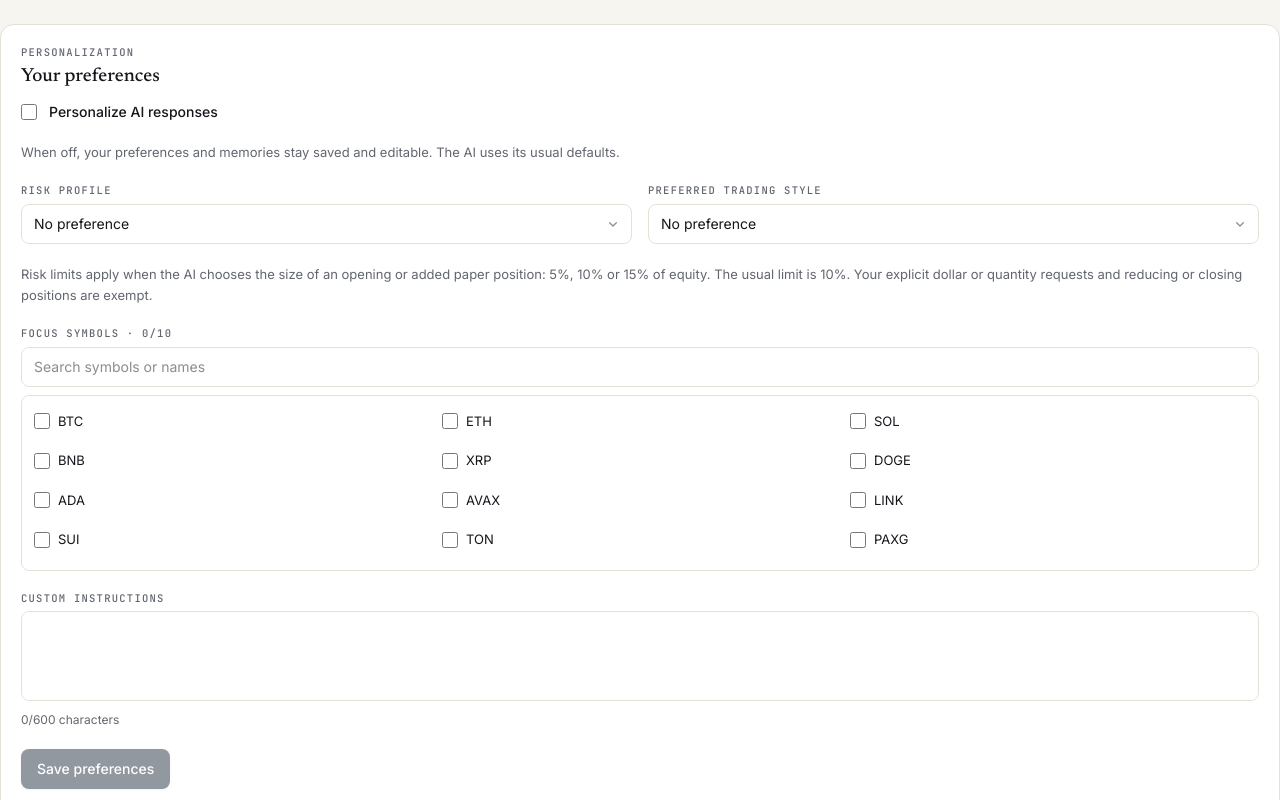
Account personalization › keeps newer unsaved typing when a previous Save completes
Type "First." into the text box labelled "Custom instructions".
click(640, 656); type("First.")  # box left=21, top=611, right=1259, bottom=701
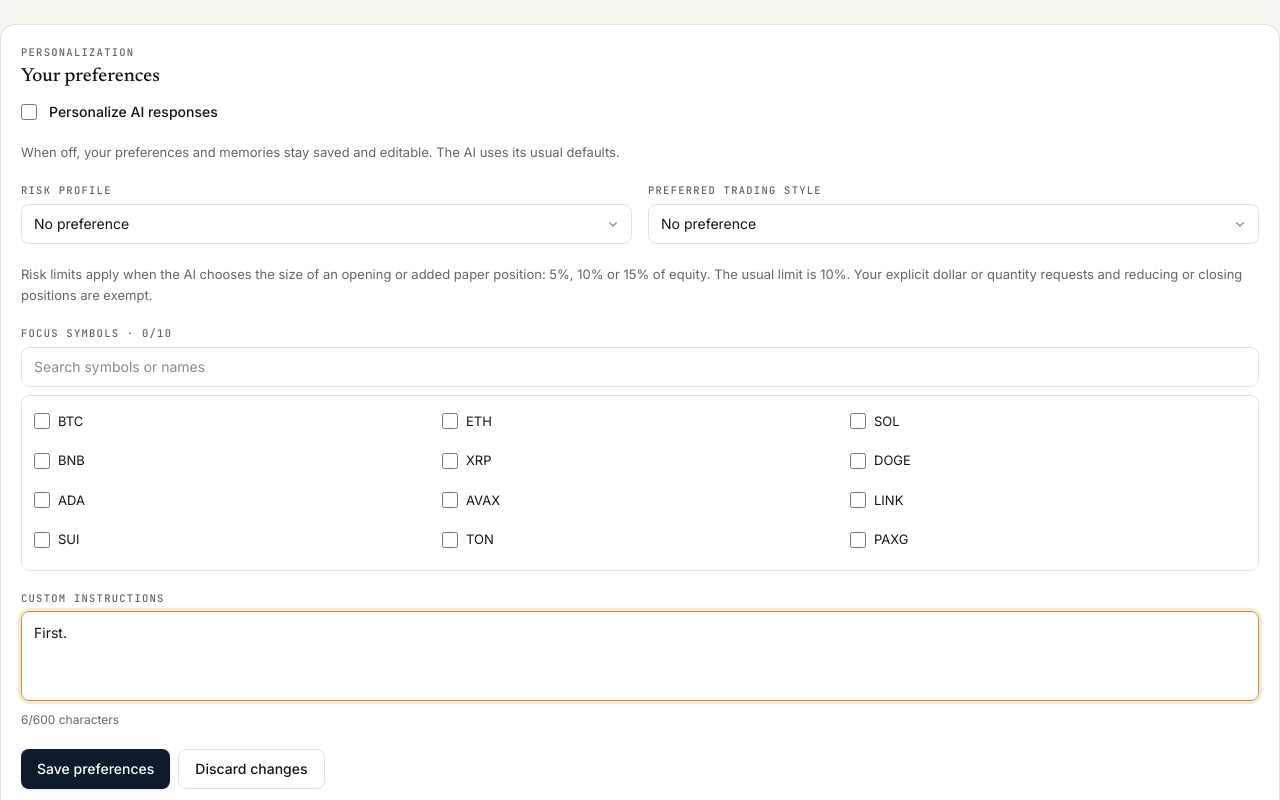
Click the button "Save preferences".
click(96, 769)  # box left=21, top=749, right=170, bottom=789
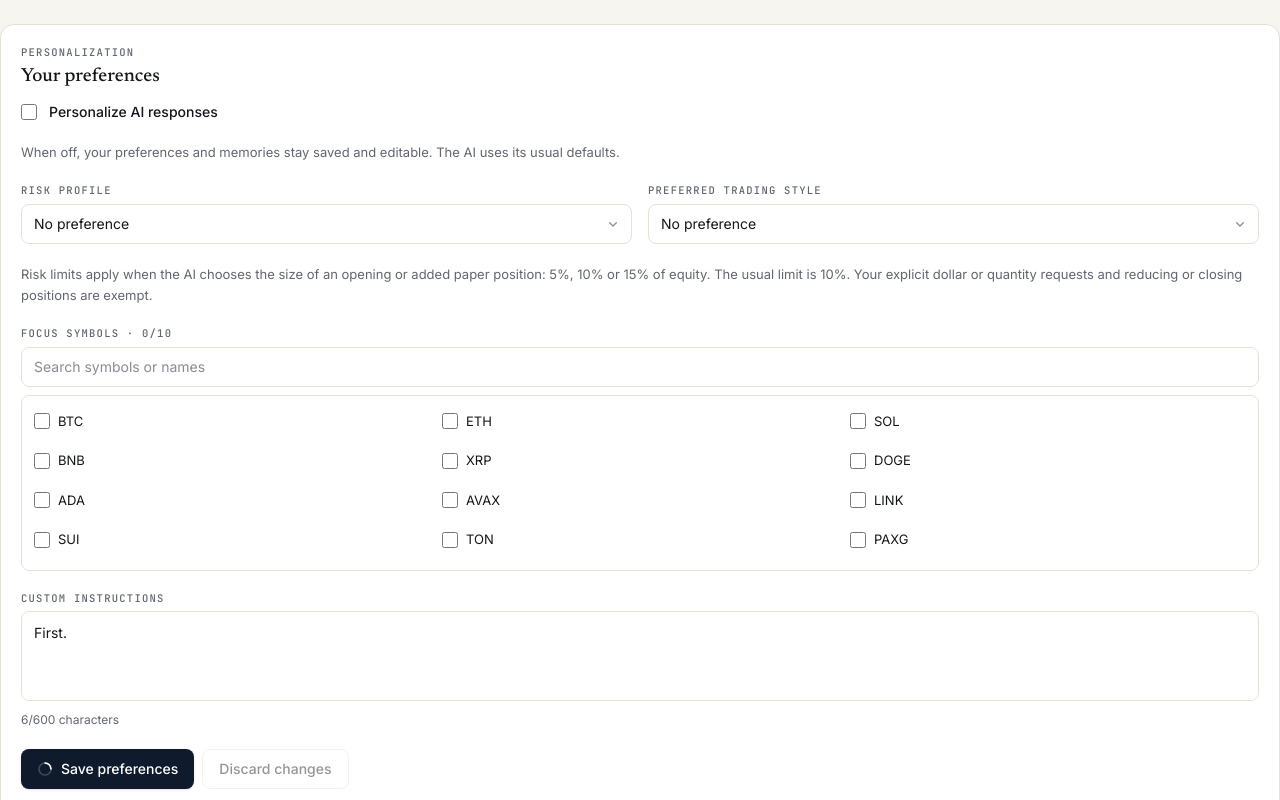
Result: the button "Save preferences" is disabled at left=21, top=749, right=194, bottom=789
Type " Later." into the text box labelled "Custom instructions".
click(640, 656); type(" Later.")  # box left=21, top=611, right=1259, bottom=701
(page scrolled)
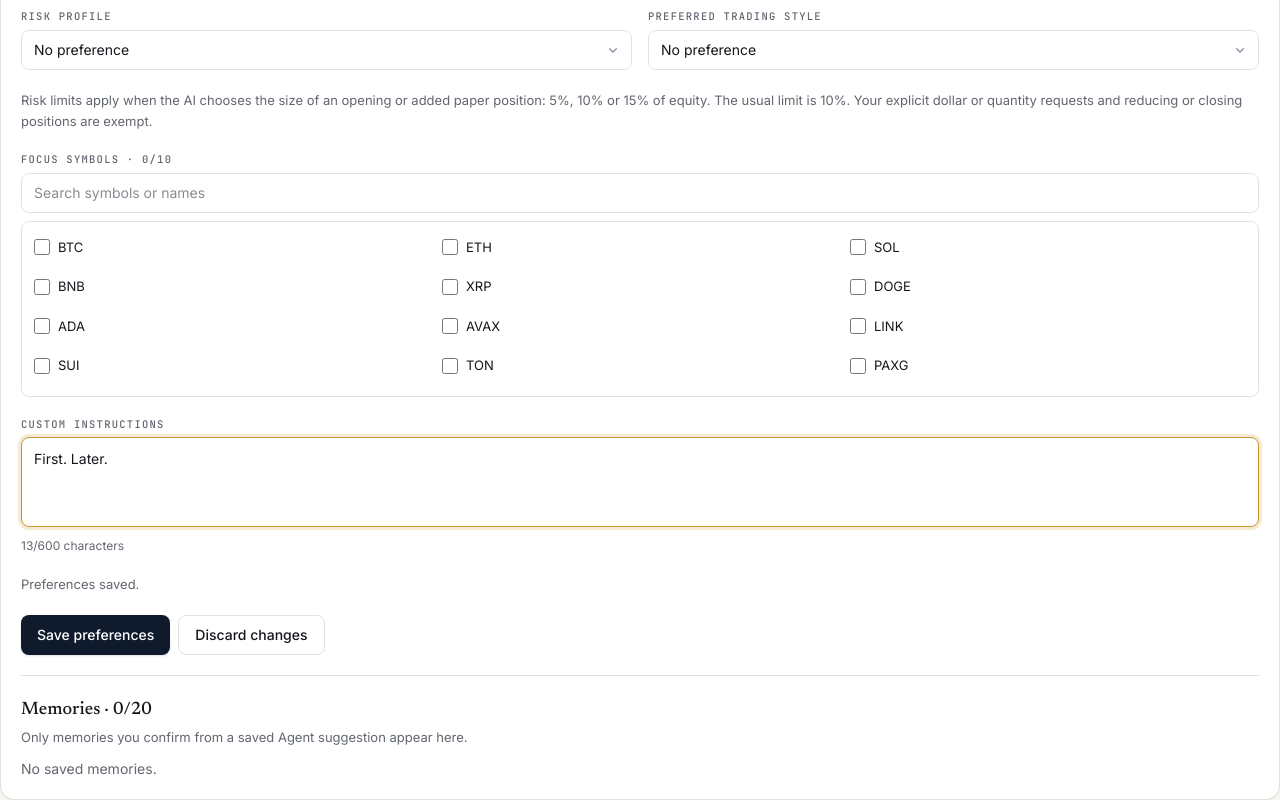
Result: the text box labelled "Custom instructions" holds "First. Later." at left=21, top=437, right=1259, bottom=527
Result: the button "Save preferences" is enabled at left=21, top=615, right=170, bottom=655
